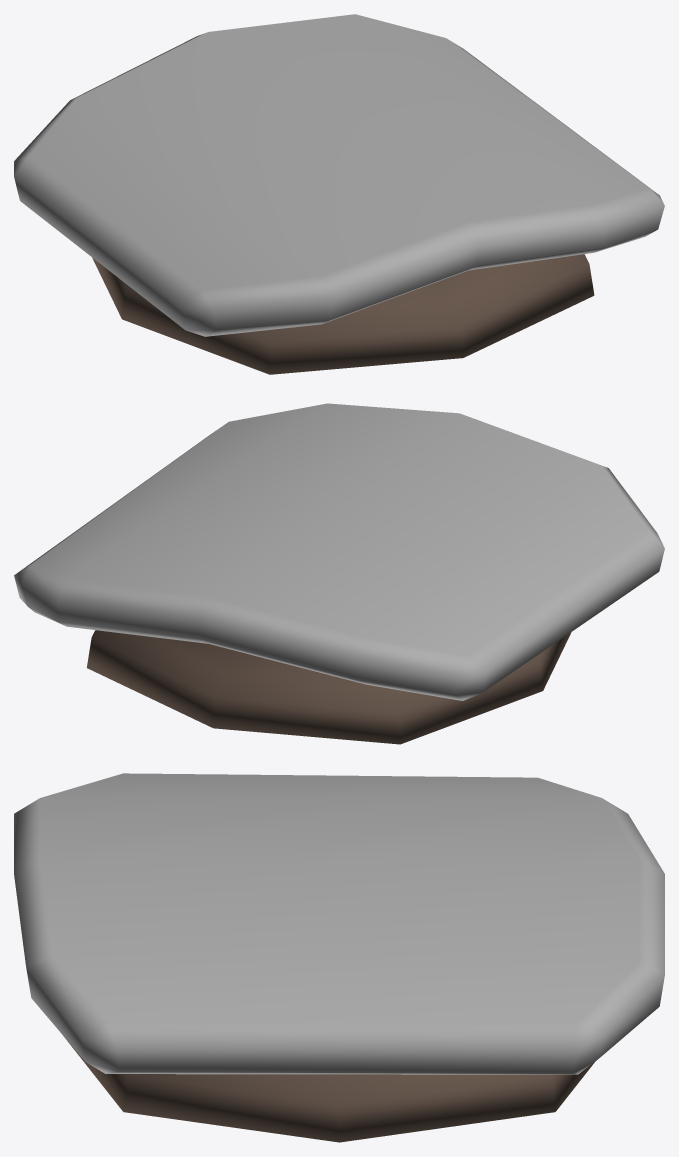
The model's file is DragonSkin.fbx.
The picture shows the model from 3 angles, top to bottom: view 1: azimuth 30°, elevation 25°; view 2: azimuth 150°, elevation 25°; view 3: azimuth 270°, elevation 25°; orthographic projection. The views are drawn at different scales.
Visible parts, largest first — view 1: Skin, Stand; view 2: Skin, Stand; view 3: Skin, Stand.
Boxes of the visible parts, x1=… form: Skin: x1=14, y1=14, x2=664, y2=336; Stand: x1=92, y1=254, x2=594, y2=374; Skin: x1=14, y1=403, x2=664, y2=700; Stand: x1=87, y1=630, x2=571, y2=744; Skin: x1=14, y1=773, x2=664, y2=1074; Stand: x1=63, y1=1036, x2=595, y2=1142.
Size of the model in its own units: 10.52 by 2.94 by 10.78.
